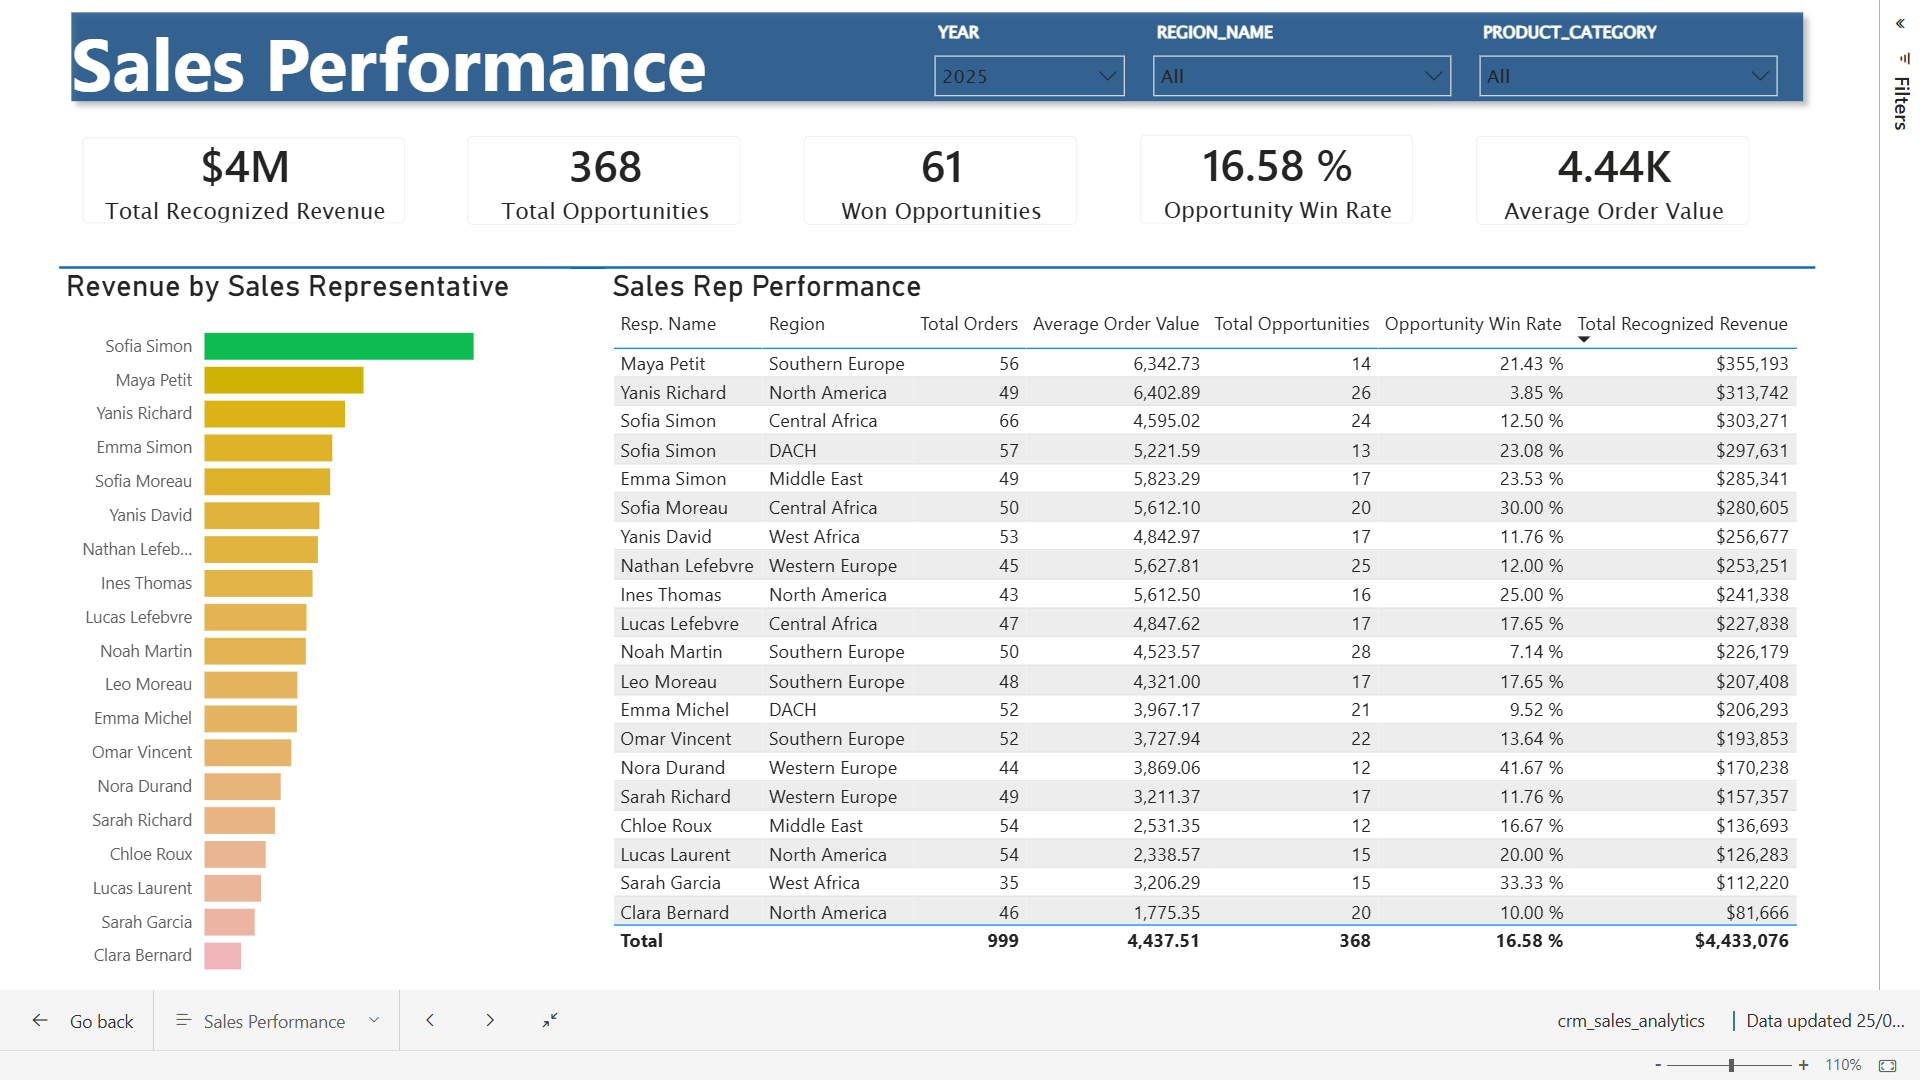

This screenshot's page, from the dashboard's own definition file:
{"tool":"powerbi","page":{"name":"Sales Performance","canvas":[1280,720],"ordinal":1},"visuals":[{"type":"shape","box":[0,0,1277.5,82.6],"z":0},{"type":"cardVisual","fields":{"Data":["_Measures.Total Recognized Revenue"]},"box":[0,82.4,269.8,97.7],"z":0,"group":"g1"},{"type":"cardVisual","fields":{"Data":["_Measures.Total Opportunities"]},"box":[280.4,81.4,233.9,99.5],"z":1000,"group":"g1"},{"type":"shape","box":[0,155.5,1277.5,78.4],"z":1000},{"type":"slicer","fields":{"Values":["DIM_DATES.YEAR"]},"box":[626.7,10.3,158.9,61.5],"z":2000},{"type":"cardVisual","fields":{"Data":["_Measures.Won Opportunities"]},"box":[524.9,82.1,233.9,99.5],"z":2000,"group":"g1"},{"type":"slicer","fields":{"Values":["DIM_REGIONS.REGION_NAME"]},"box":[785.6,10.3,237.1,61.5],"z":3000},{"type":"cardVisual","fields":{"Data":["_Measures.Opportunity Win Rate"]},"box":[769.4,80.9,233.9,99.5],"z":3000,"group":"g1"},{"type":"slicer","fields":{"Values":["DIM_PRODUCTS.PRODUCT_CATEGORY"]},"box":[1022.7,10.3,237.1,61.5],"z":4000},{"type":"cardVisual","fields":{"Data":["_Measures.Average Order Value"]},"box":[1013.8,81.7,233.9,99.5],"z":4000,"group":"g1"},{"type":"group","id":"g1","title":"Groupe 1","box":[0,80.9,1247.7,100.8],"z":5000},{"type":"clusteredBarChart","title":"Revenue by Sales Representative","fields":{"Category":["DIM_SALES_REPS.SALES_REP_NAME"],"Y":["_Measures.Total Recognized Revenue"]},"box":[0,195.1,371.6,524.9],"z":6000},{"type":"tableEx","title":"Sales Rep Performance","fields":{"Values":["DIM_SALES_REPS.SALES_REP_NAME","DIM_SALES_REPS.REGION_NAME","_Measures.Total Orders","_Measures.Average Order Value","_Measures.Total Opportunities","_Measures.Opportunity Win Rate","_Measures.Total Recognized Revenue"]},"box":[397.4,195.1,880.2,524.9],"z":6001}]}

Visuals, with their boxes on the page's 1280x720 design canvas (x1, y1, x2, y2). These are canvas units, not pixel positions in the 1920x1080 screenshot, which may show the page scaled, cropped or inside an application window:
shape: l=0, t=0, r=1278, b=83
cardVisual - _Measures.Total Recognized Revenue: l=0, t=82, r=270, b=180
cardVisual - _Measures.Total Opportunities: l=280, t=81, r=514, b=181
shape: l=0, t=156, r=1278, b=234
slicer - DIM_DATES.YEAR: l=627, t=10, r=786, b=72
cardVisual - _Measures.Won Opportunities: l=525, t=82, r=759, b=182
slicer - DIM_REGIONS.REGION_NAME: l=786, t=10, r=1023, b=72
cardVisual - _Measures.Opportunity Win Rate: l=769, t=81, r=1003, b=180
slicer - DIM_PRODUCTS.PRODUCT_CATEGORY: l=1023, t=10, r=1260, b=72
cardVisual - _Measures.Average Order Value: l=1014, t=82, r=1248, b=181
"Groupe 1" group: l=0, t=81, r=1248, b=182
"Revenue by Sales Representative" clusteredBarChart: l=0, t=195, r=372, b=720
"Sales Rep Performance" tableEx: l=397, t=195, r=1278, b=720
